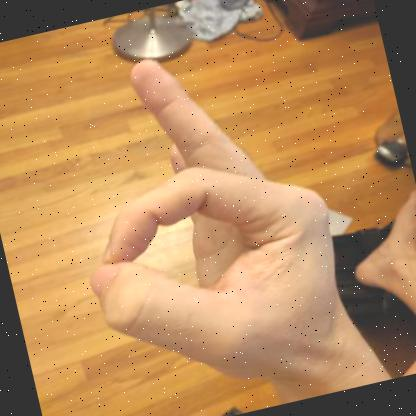F: (90, 59, 372, 383)
